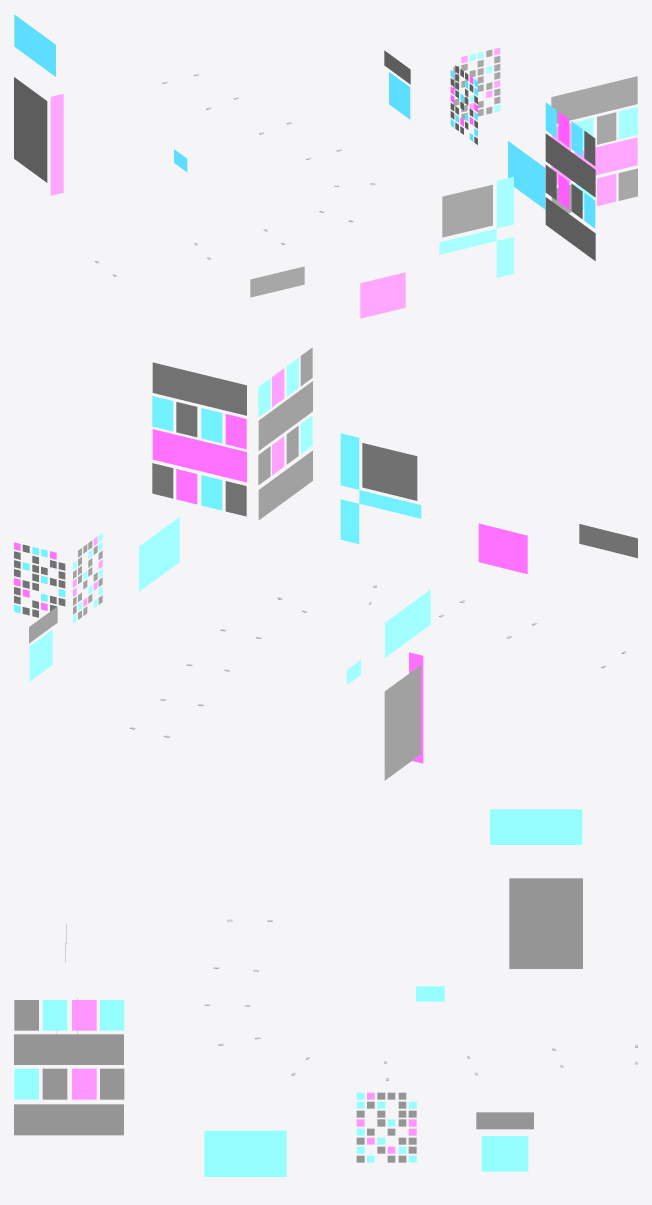
The model's file is R4Light.fbx.
The picture shows the model from 3 angles, top to bottom: view 1: azimuth 30°, elevation 25°; view 2: azimuth 150°, elevation 25°; view 3: azimuth 270°, elevation 25°; orthographic projection. The views are drawn at different scales.
Parts seen in each view (by area): view 1: Cube.001; view 2: Cube.001; view 3: Cube.001.
Boxes of the visible parts, x1,y1,x2,y2 form: Cube.001: [14, 14, 637, 318]; Cube.001: [14, 347, 637, 780]; Cube.001: [14, 809, 637, 1176].
Size of the model in its own units: 15390 by 4844 by 15745.
